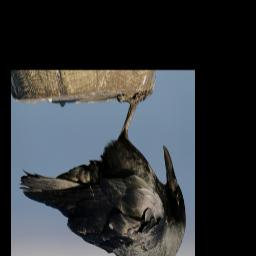Crow: (18, 75, 186, 256)
